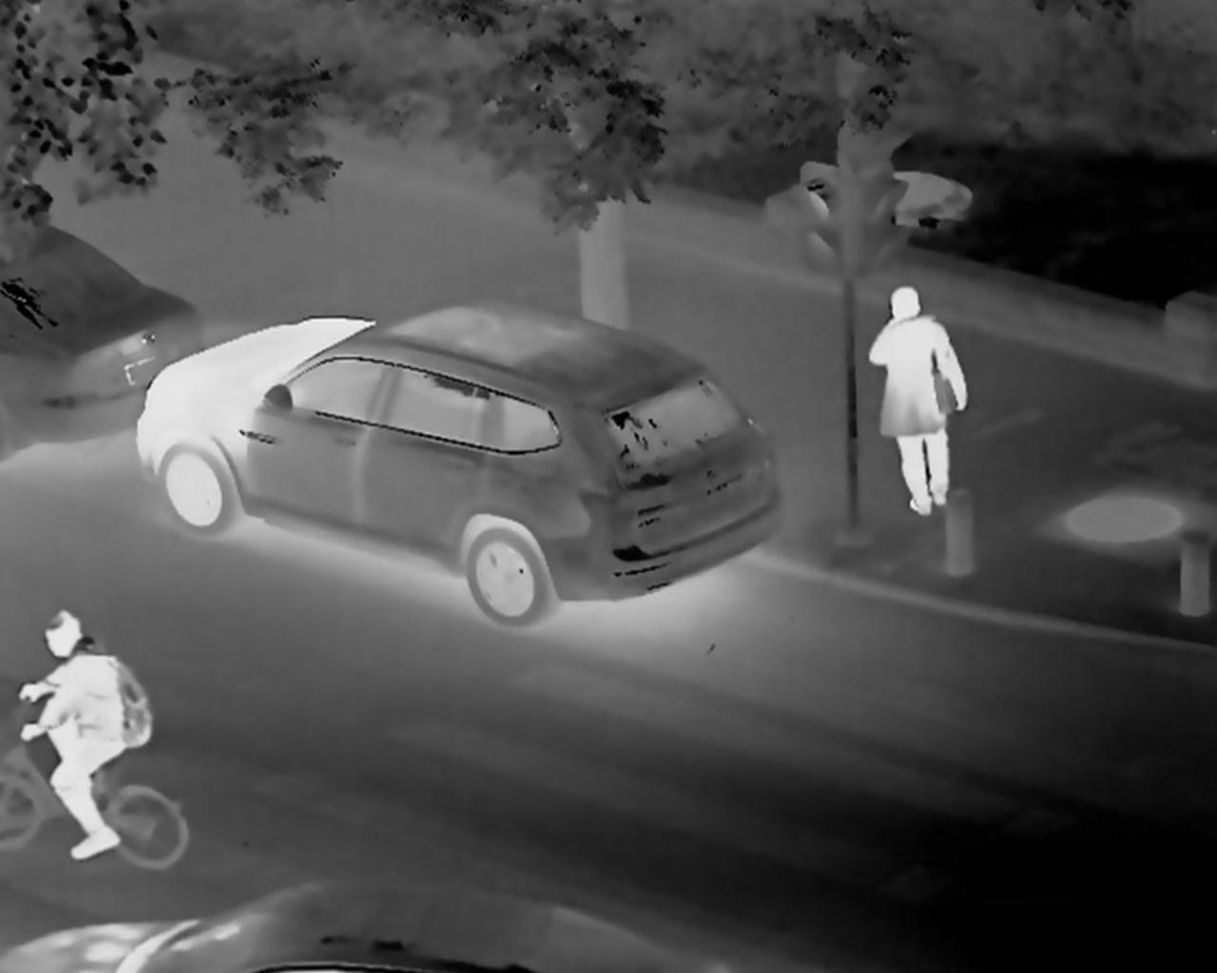person: (26, 582, 172, 903), (865, 272, 978, 498)
